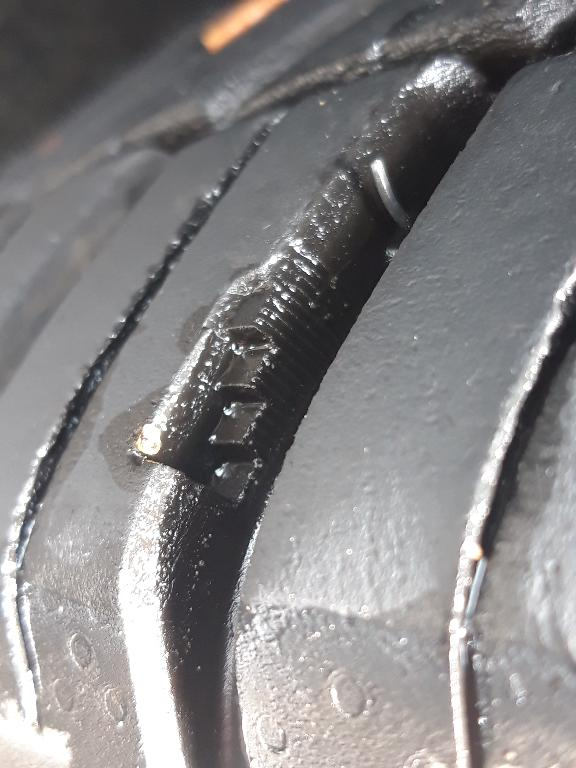temoin:80: (122, 236, 363, 530)
